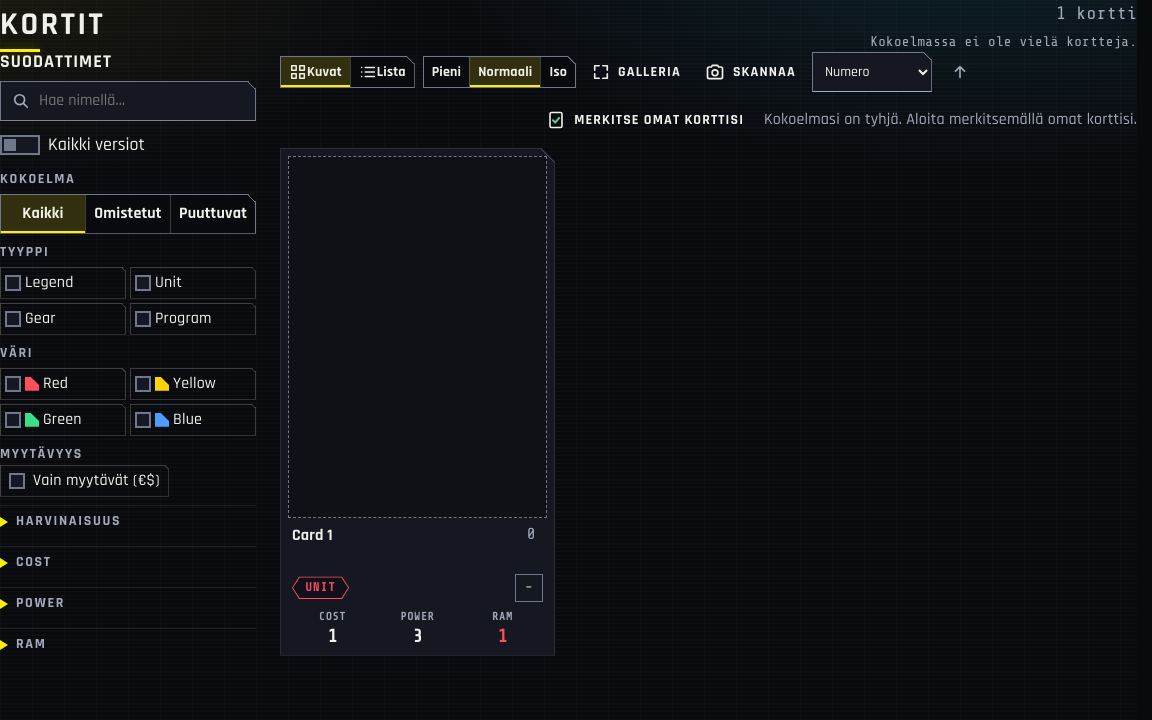
Test: CatalogView grid box (T-181) › puts the collection count in the strip while browsing and the − and + in a row of their own while marking
Expected: the element with class "card-collection" is shown, x1=519 y1=526 x2=543 y2=542
Step 1. Click the button "Merkitse omat korttisi" → click(645, 120), box x1=538 y1=100 x2=752 y2=140
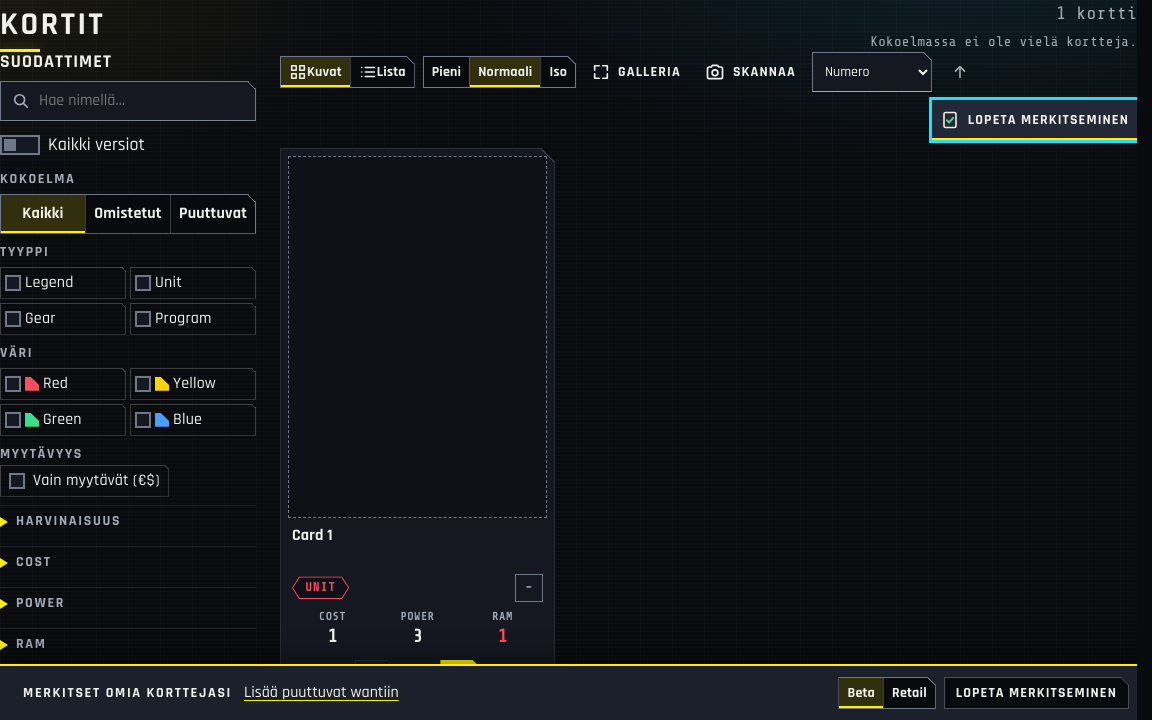
Now the button named "Lisää yksi kappale" is shown, box x1=440 y1=660 x2=480 y2=700
